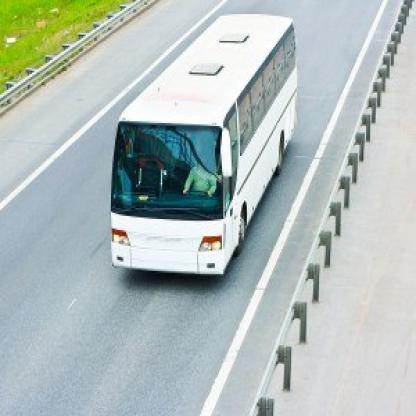bus: (104, 12, 301, 302)
